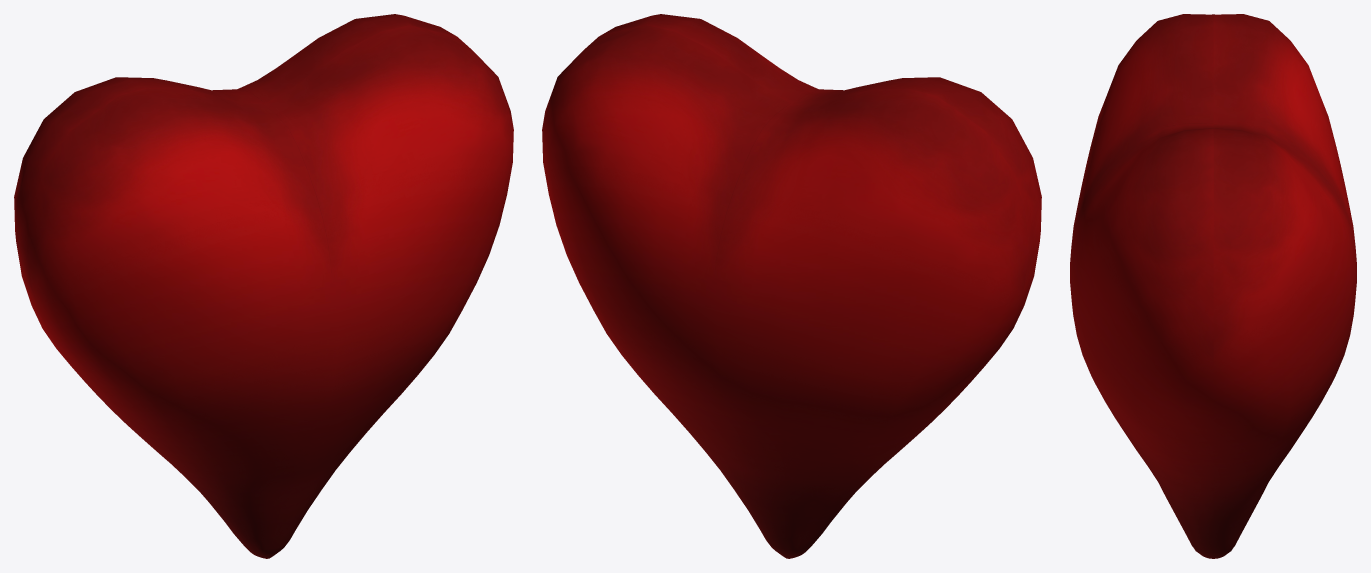
The model's file is Health.FBX.
3 views of the same model, side by side, from view 1: azimuth 30°, elevation 25°; view 2: azimuth 150°, elevation 25°; view 3: azimuth 270°, elevation 25° (orthographic). The views are drawn at different scales.
Parts seen in each view (by area): view 1: Heart; view 2: Heart; view 3: Heart.
Part boxes in pixels (x1=…): Heart: x1=14, y1=14, x2=513, y2=558; Heart: x1=542, y1=14, x2=1041, y2=558; Heart: x1=1070, y1=14, x2=1356, y2=558.
Size of the model in its own units: 271 by 271 by 148.
